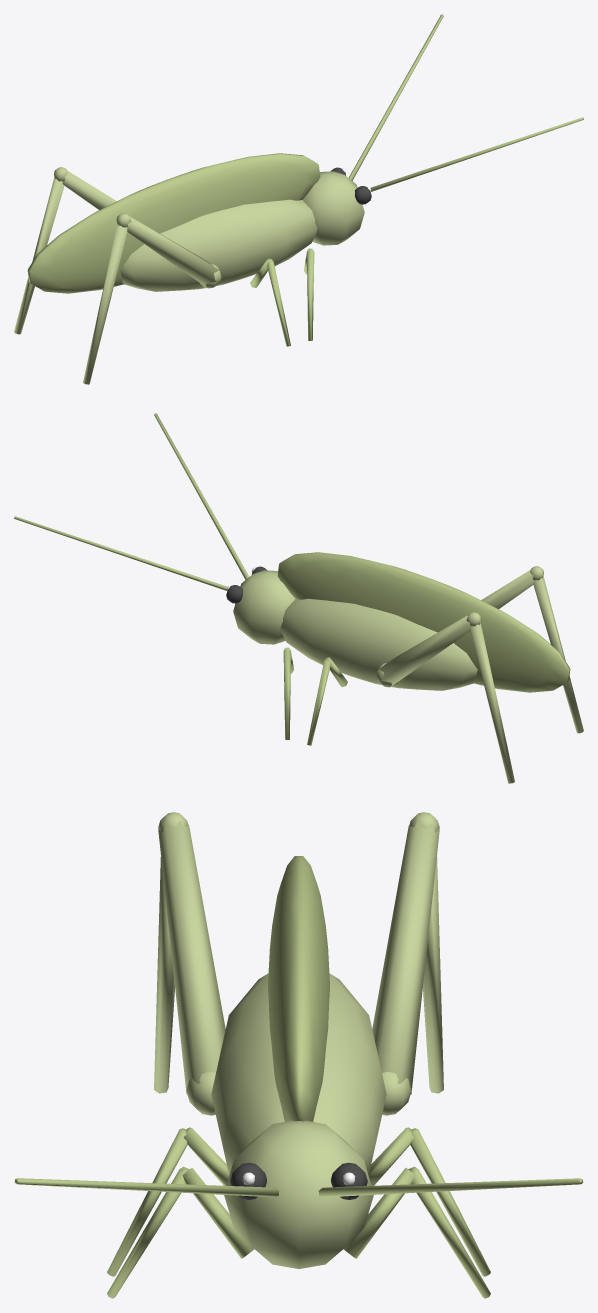
The model's file is long-winged-katydid.glb.
The picture shows the model from 3 angles, top to bottom: view 1: azimuth 30°, elevation 25°; view 2: azimuth 150°, elevation 25°; view 3: azimuth 270°, elevation 25°; orthographic projection. The views are drawn at different scales.
Parts seen in each view (by area): view 1: e; view 2: e; view 3: e.
Part boxes in pixels (x1,y1,x2,y2): e: (14,14,583,384); e: (14,413,583,783); e: (14,812,583,1298).
Size of the model in its own units: 0.8941 by 0.3189 by 0.454.
